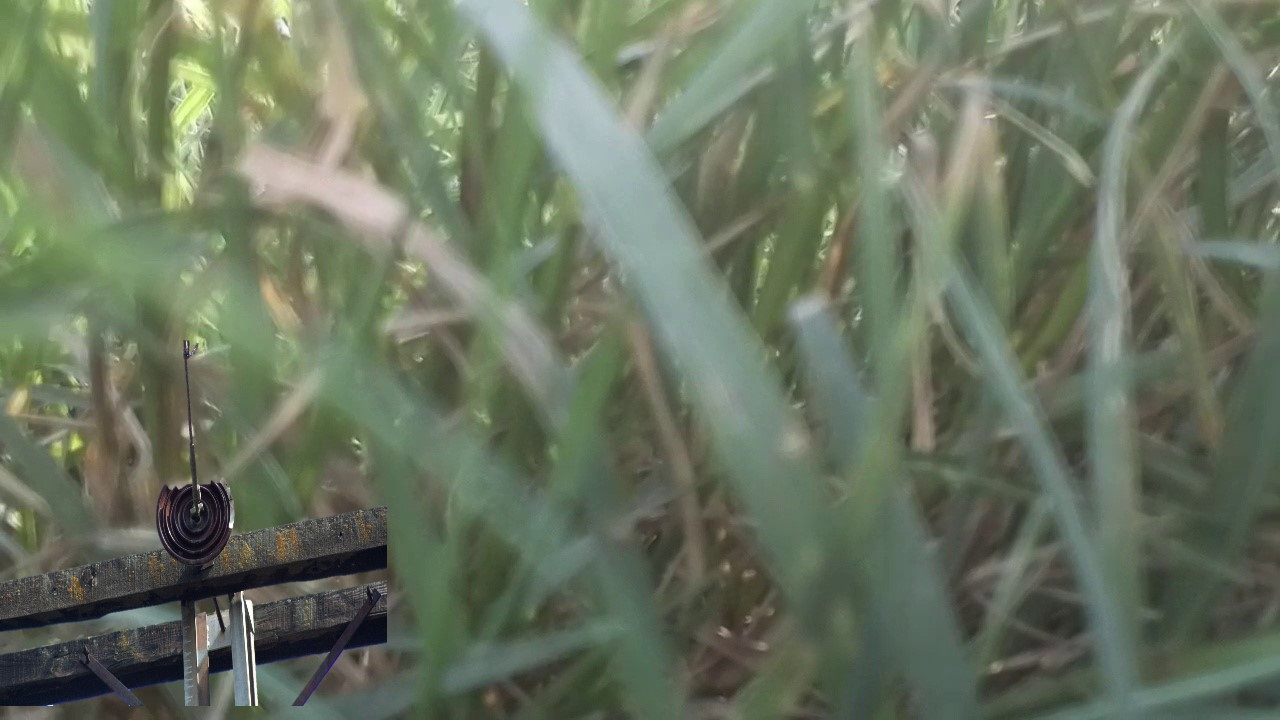defect_disc: (153, 469, 243, 569)
